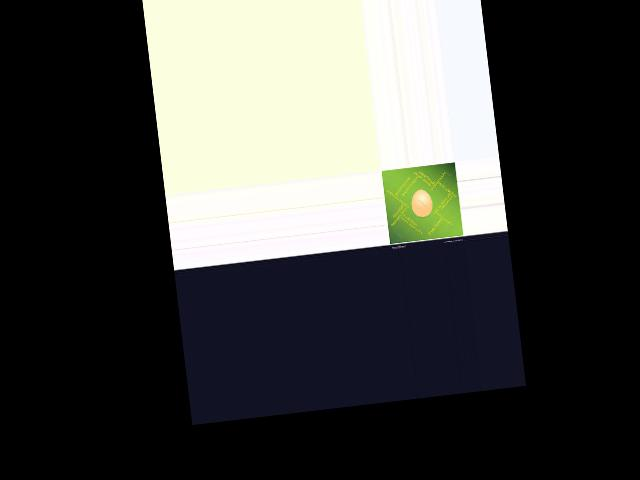egg: (410, 188, 434, 217)
